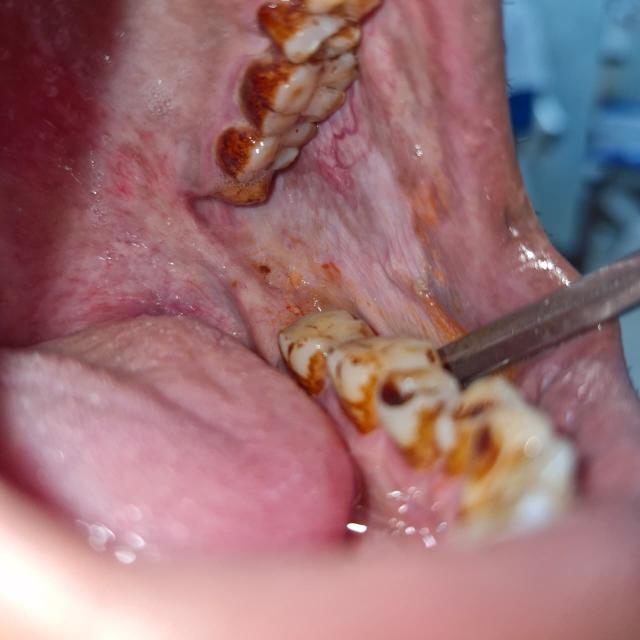leukoplakia-detection: (200, 0, 466, 364)
processing_area: (0, 0, 488, 560)
